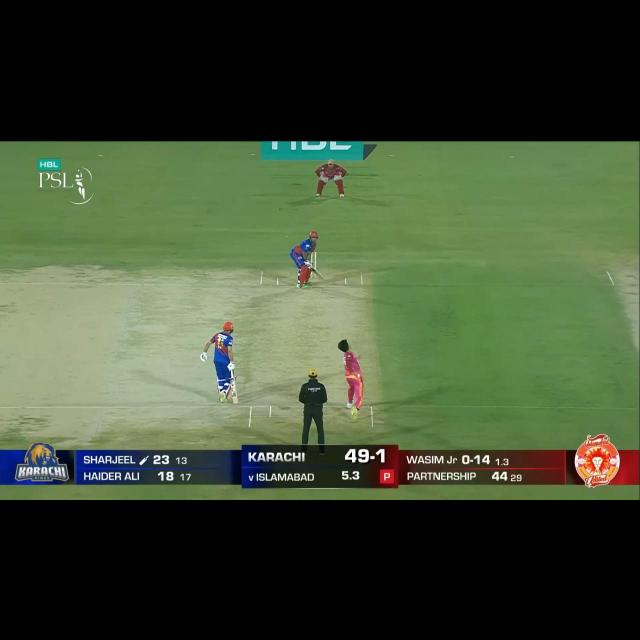bat: (229, 379, 238, 404), (311, 268, 325, 280)
toe: (231, 397, 238, 404), (318, 274, 325, 280)
